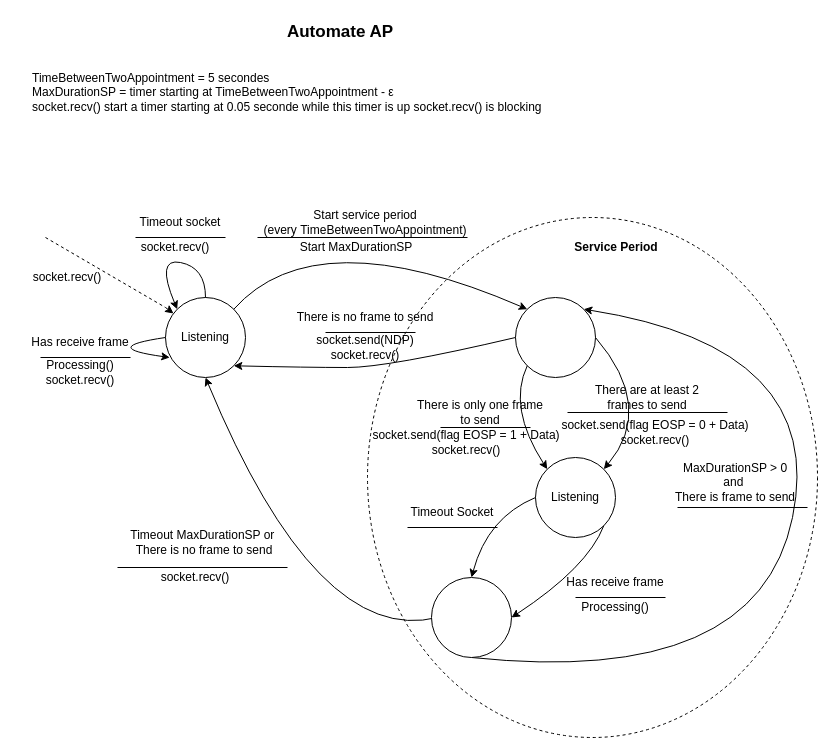
Image size: 835x755. Some labels were removed from this diagram. The centre of each missing label's shape, as x and y in pixels:
End of listening: the point at 471,617
Transmitting: the point at 555,337
